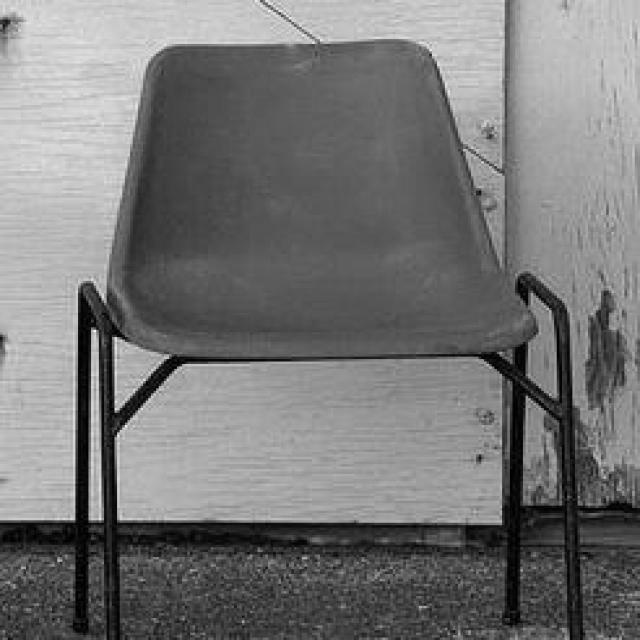chair: (78, 40, 590, 639)
